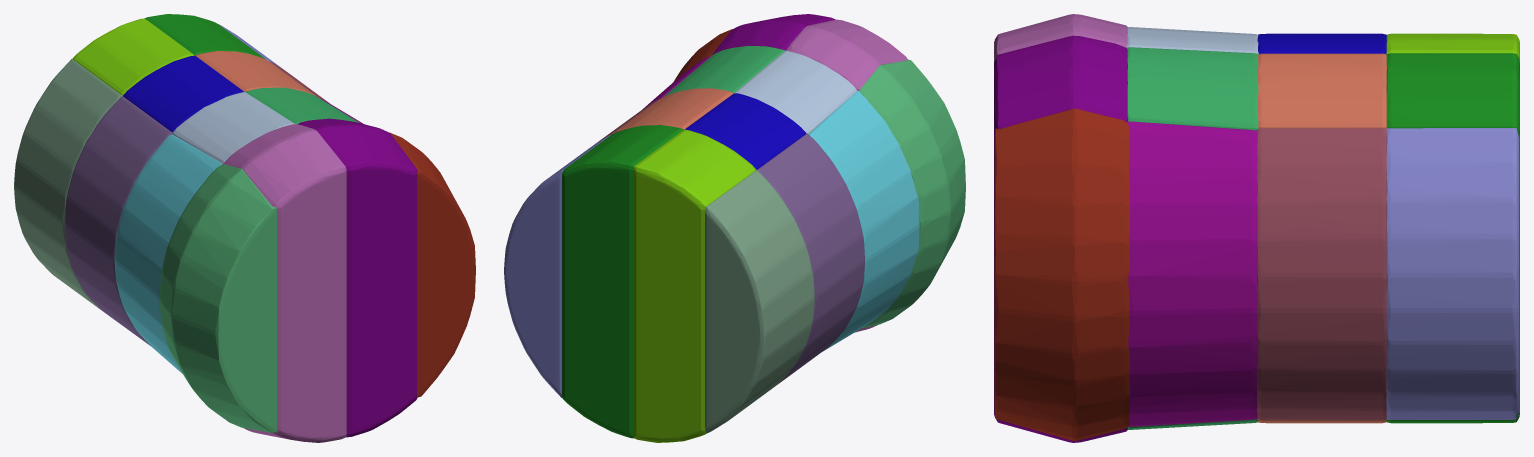
The model's file is forearm_collision_split.obj.
3 views of the same model, side by side, from view 1: azimuth 30°, elevation 25°; view 2: azimuth 150°, elevation 25°; view 3: azimuth 270°, elevation 25° (orthographic). The views are drawn at different scales.
Visible parts, largest first — view 1: geometry_3, geometry_7, geometry_11, geometry_0, geometry_1, geometry_2, geometry_15, geometry_4, geometry_5, geometry_6, geometry_8, geometry_9 (+1 smaller); view 2: geometry_4, geometry_0, geometry_8, geometry_2, geometry_3, geometry_1, geometry_12, geometry_6, geometry_5, geometry_7, geometry_10, geometry_9 (+2 smaller); view 3: geometry_15, geometry_12, geometry_14, geometry_13, geometry_8, geometry_11, geometry_10, geometry_9, geometry_7, geometry_4, geometry_5, geometry_6.
Part boxes in pixels (bbox=[...]): geometry_3: bbox=[159, 164, 276, 432]; geometry_7: bbox=[222, 124, 346, 442]; geometry_11: bbox=[297, 118, 417, 437]; geometry_0: bbox=[14, 59, 122, 310]; geometry_1: bbox=[64, 96, 172, 345]; geometry_2: bbox=[114, 134, 222, 373]; geometry_15: bbox=[389, 132, 475, 397]; geometry_4: bbox=[72, 18, 194, 95]; geometry_5: bbox=[123, 55, 243, 132]; geometry_6: bbox=[172, 92, 294, 163]; geometry_8: bbox=[144, 14, 264, 58]; geometry_9: bbox=[195, 51, 315, 95]; geometry_4: bbox=[633, 129, 756, 442]; geometry_0: bbox=[705, 170, 814, 433]; geometry_8: bbox=[562, 125, 684, 438]; geometry_2: bbox=[808, 91, 919, 351]; geometry_3: bbox=[858, 59, 965, 328]; geometry_1: bbox=[757, 133, 864, 383]; geometry_12: bbox=[504, 135, 610, 397]; geometry_6: bbox=[735, 50, 857, 133]; geometry_5: bbox=[685, 93, 806, 169]; geometry_7: bbox=[786, 19, 907, 332]; geometry_10: bbox=[664, 46, 785, 96]; geometry_9: bbox=[614, 88, 733, 132]; geometry_15: bbox=[994, 108, 1129, 440]; geometry_12: bbox=[1386, 128, 1519, 419]; geometry_14: bbox=[1127, 121, 1257, 426]; geometry_13: bbox=[1256, 128, 1386, 419]; geometry_8: bbox=[1386, 53, 1519, 423]; geometry_11: bbox=[994, 35, 1127, 442]; geometry_10: bbox=[1126, 47, 1258, 429]; geometry_9: bbox=[1257, 53, 1386, 423]; geometry_7: bbox=[994, 14, 1127, 61]; geometry_4: bbox=[1386, 33, 1519, 62]; geometry_5: bbox=[1257, 33, 1386, 53]; geometry_6: bbox=[1126, 27, 1258, 53].
Bounding box in the file's own units: 151 × 151 × 185.
